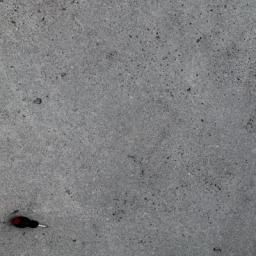FOD: (5, 206, 52, 238)
